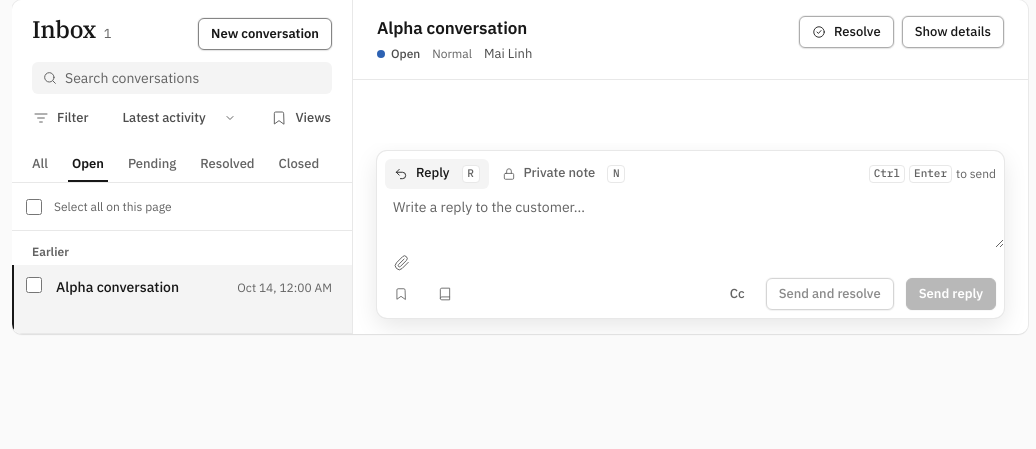
Test: a reply the trial refuses stays in the composer with the reason
Check: the button "Alpha conversation Oct 14, 12:00 AM" is shown, box x1=12 y1=265 x2=352 y2=334
In the text box named "Message body": (690, 218) x1=377 y1=189 x2=1004 y2=248, type "Please read this"
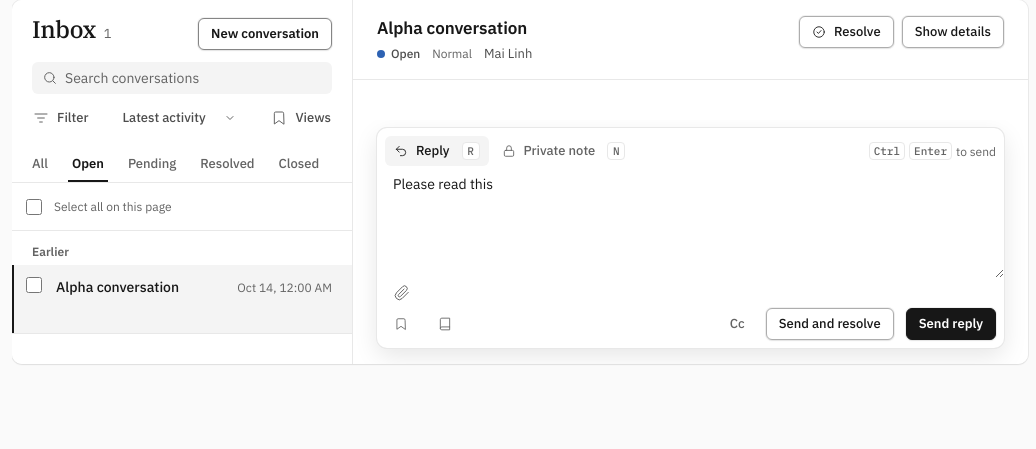
Press Enter in the text box named "Message body", box x1=377 y1=166 x2=1004 y2=278
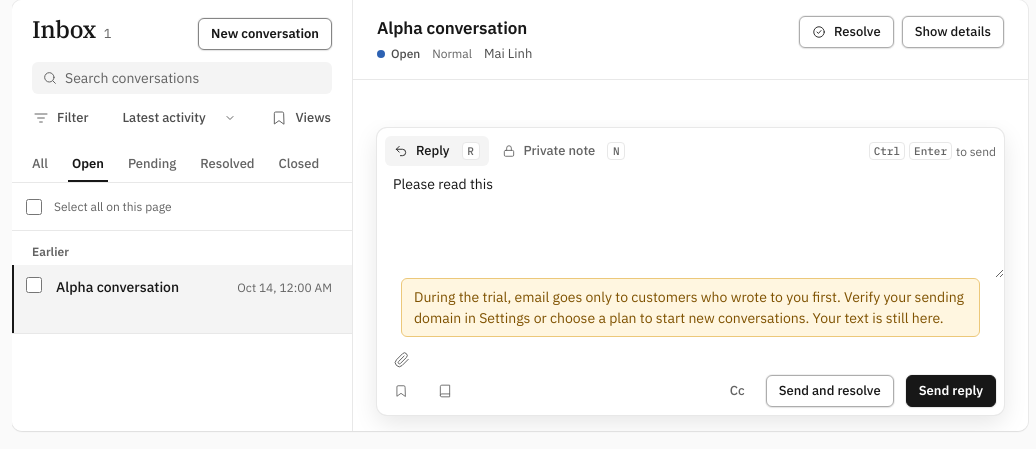
Check: the message shows "verify your sending domain", box x1=414 y1=288 x2=964 y2=327
